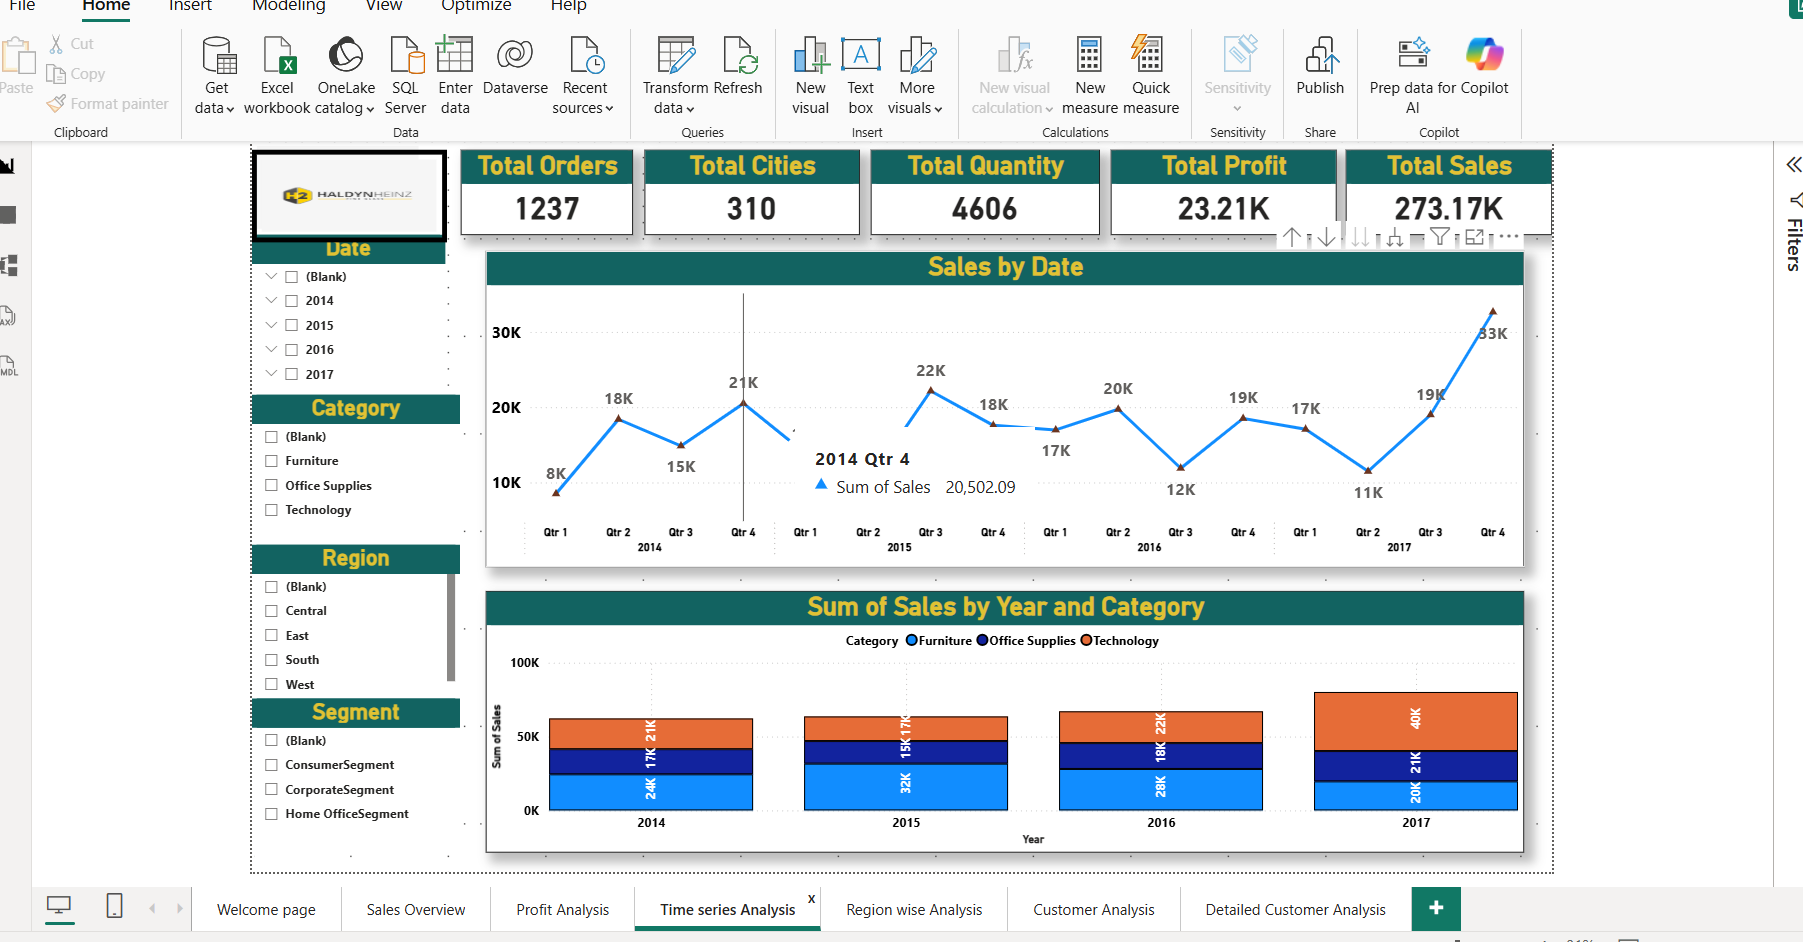

This screenshot's page, from the dashboard's own definition file:
{"tool":"powerbi","page":{"name":"Time series Analysis","canvas":[1280,720],"ordinal":3},"visuals":[{"type":"image","box":[0,0,168.6,91.1],"z":0},{"type":"card","title":"Total Orders","fields":{"Values":["Count(Orders.Order ID)"]},"box":[205.5,8.6,169.8,83.7],"z":1000},{"type":"card","title":"Total Cities","fields":{"Values":["Count(Orders.City)"]},"box":[386.5,8.6,211.7,83.7],"z":2000},{"type":"card","title":"Total Quantity","fields":{"Values":["Sum(Orders.Quantity)"]},"box":[609.2,8.6,225.2,83.7],"z":3000},{"type":"card","title":"Total Profit","fields":{"Values":["Sum(Orders.Profit)"]},"box":[845,8.8,222.5,83.8],"z":4000},{"type":"card","title":"Total Sales","fields":{"Values":["Sum(Orders.Sales)"]},"box":[1076.9,8.6,203.1,83.7],"z":5000},{"type":"slicer","title":"Date","fields":{"Values":["Orders.Order Date.Variation.Date Hierarchy.Year","Orders.Order Date.Variation.Date Hierarchy.Quarter","Orders.Order Date.Variation.Date Hierarchy.Month","Orders.Order Date.Variation.Date Hierarchy.Day"]},"box":[0,92.5,190,157.5],"z":6000},{"type":"slicer","title":"Category","fields":{"Values":["Orders.Category"]},"box":[0,250,205,147.5],"z":7000},{"type":"slicer","title":"Region","fields":{"Values":["Orders.Region"]},"box":[0,397.5,205,151.2],"z":8000},{"type":"slicer","title":"Segment","fields":{"Values":["Orders.Segment"]},"box":[0,548.8,205,151.2],"z":9000},{"type":"lineChart","title":" Sales by Date","fields":{"Category":["Orders.Order Date.Variation.Date Hierarchy.Year","Orders.Order Date.Variation.Date Hierarchy.Quarter","Orders.Order Date.Variation.Date Hierarchy.Month","Orders.Order Date.Variation.Date Hierarchy.Day"],"Y":["Sum(Orders.Sales)"]},"box":[230.2,108.3,1022.8,311.4],"z":10000},{"type":"columnChart","fields":{"Category":["Orders.Order Date.Variation.Date Hierarchy.Year"],"Y":["Sum(Orders.Sales)"],"Series":["Orders.Category"]},"box":[230.2,443.1,1022.8,257.2],"z":11000},{"type":"image","box":[0,8.6,192,91.1],"z":12000}]}

Visuals, with their boxes on the page's 1280x720 design canvas (x1, y1, x2, y2). These are canvas units, not pixel positions in the 1803x942 screenshot, which may show the page scaled, cropped or inside an application window:
image: [0, 0, 169, 91]
"Total Orders" card: [206, 9, 375, 92]
"Total Cities" card: [386, 9, 598, 92]
"Total Quantity" card: [609, 9, 834, 92]
"Total Profit" card: [845, 9, 1068, 93]
"Total Sales" card: [1077, 9, 1280, 92]
"Date" slicer: [0, 92, 190, 250]
"Category" slicer: [0, 250, 205, 398]
"Region" slicer: [0, 398, 205, 549]
"Segment" slicer: [0, 549, 205, 700]
" Sales by Date" lineChart: [230, 108, 1253, 420]
columnChart - Orders.Order Date.Variation.Date Hierarchy.Year x Sum(Orders.Sales): [230, 443, 1253, 700]
image: [0, 9, 192, 100]
